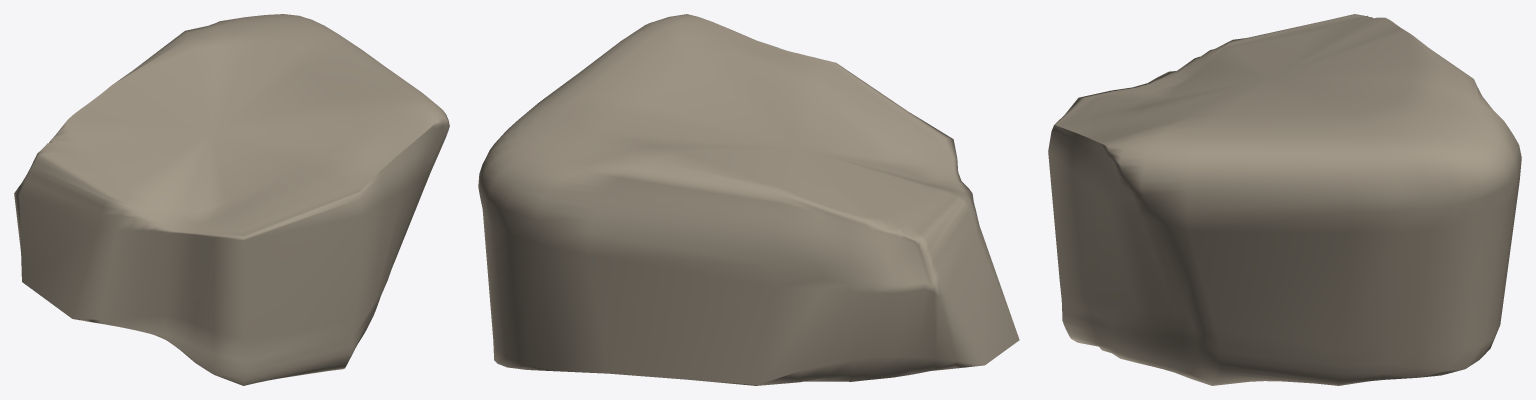
Rendered from landscape.rock.gritstone_01.glb.
The picture shows the model from 3 angles, left to right: view 1: azimuth 30°, elevation 25°; view 2: azimuth 150°, elevation 25°; view 3: azimuth 270°, elevation 25°; orthographic projection. The views are drawn at different scales.
Visible parts, largest first — view 1: main__stone_a98; view 2: main__stone_a98; view 3: main__stone_a98.
Part boxes in pixels (bbox=[...]): main__stone_a98: bbox=[14, 14, 449, 385]; main__stone_a98: bbox=[478, 14, 1019, 385]; main__stone_a98: bbox=[1048, 14, 1521, 385].
Size of the model in its own units: 0.9182 by 0.5354 by 0.8466.
